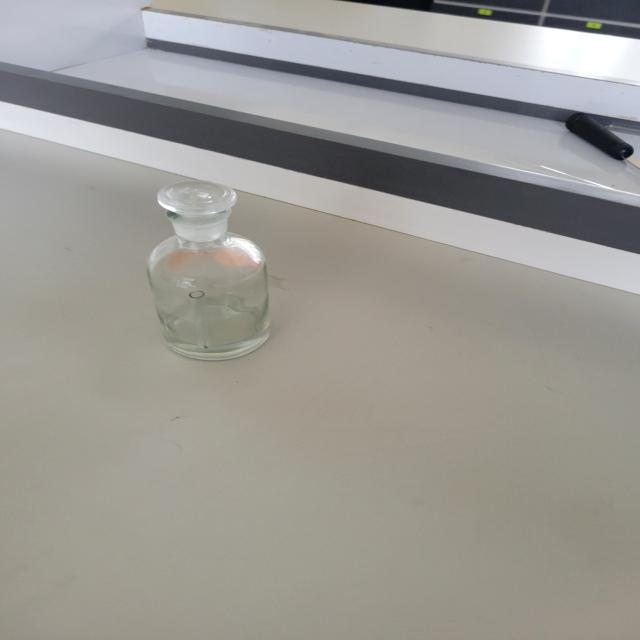Reagent_Bottle: (113, 160, 330, 388)
